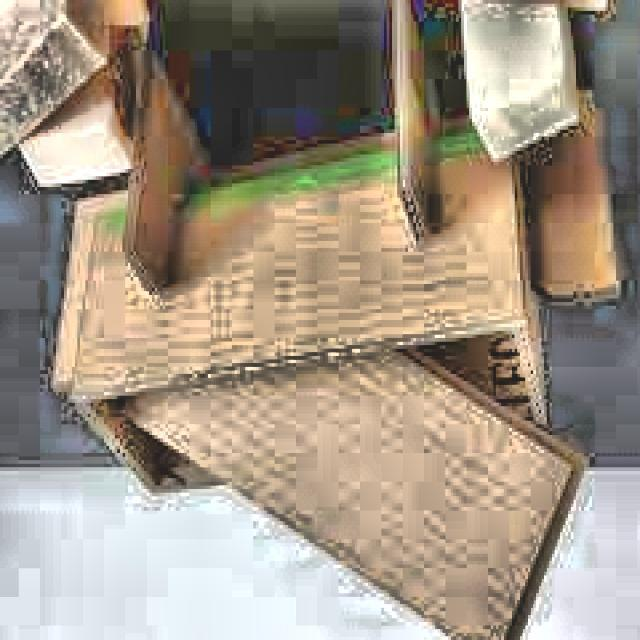cardboard: (48, 130, 590, 640)
